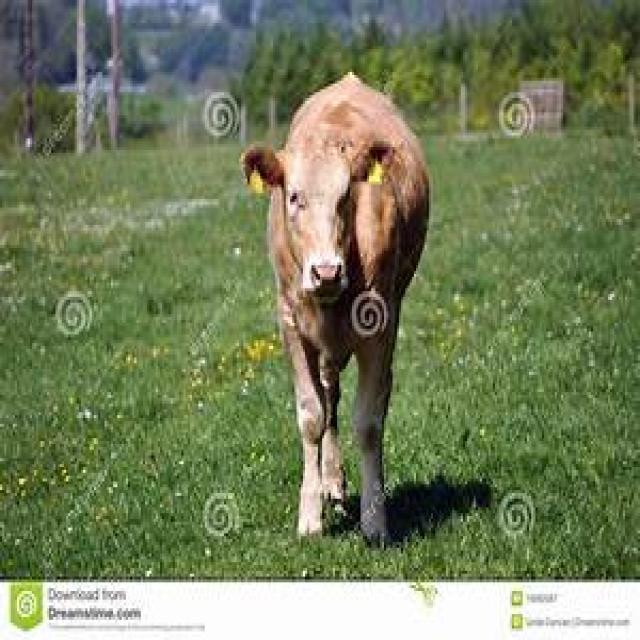cow: (239, 75, 433, 551)
